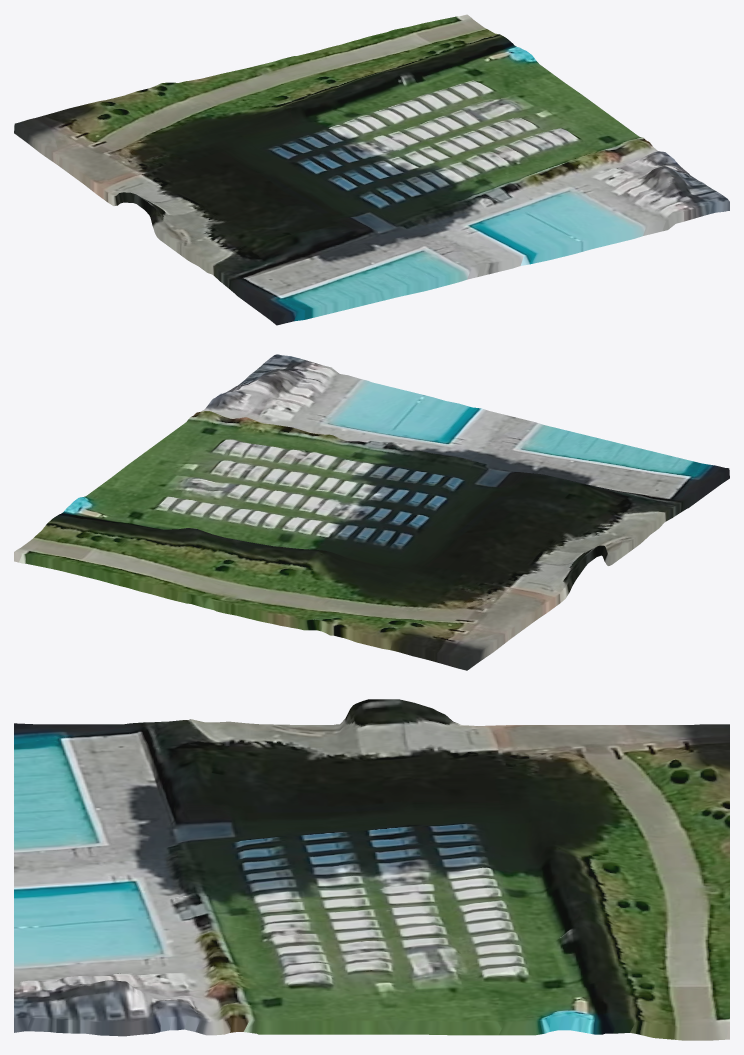
File: z20-167780-405213-h0-yup-uvflip-v3-world.glb
3 renders of one model, top to bottom at view 1: azimuth 30°, elevation 25°; view 2: azimuth 150°, elevation 25°; view 3: azimuth 270°, elevation 25°, orthographic. The views are drawn at different scales.
Size of the model in its own units: 30.2 by 1.88 by 30.32.
Materials: 1 (1 with a texture image).
